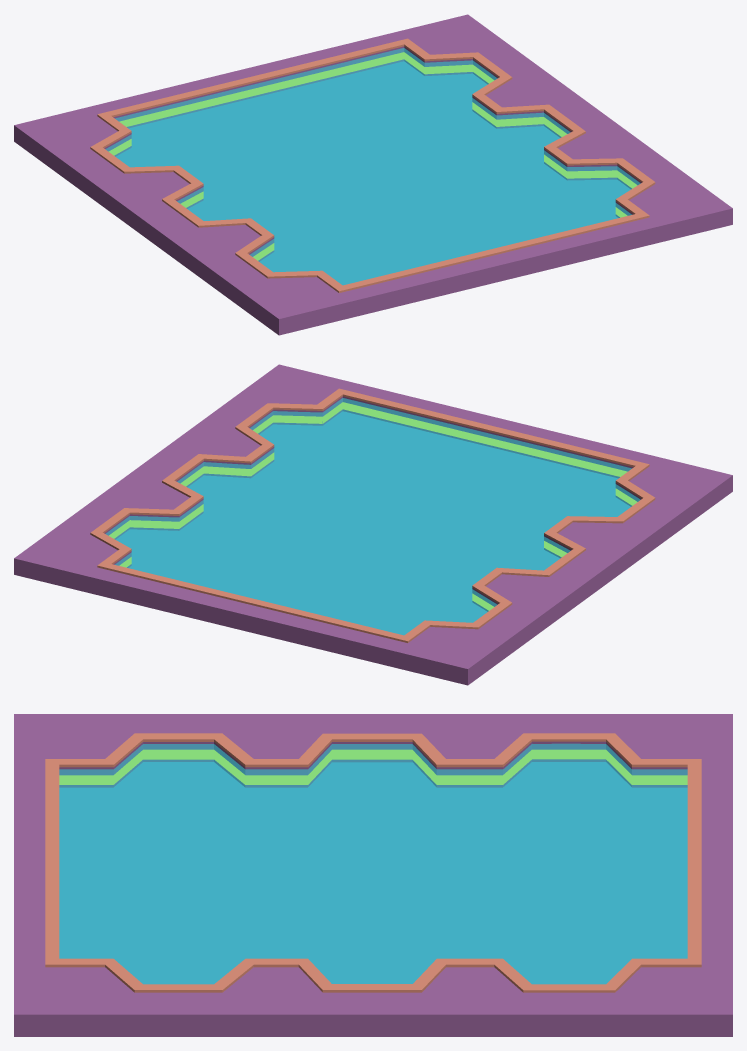
Rendered from floor_tier20.fbx.
The picture shows the model from 3 angles, top to bottom: view 1: azimuth 30°, elevation 25°; view 2: azimuth 150°, elevation 25°; view 3: azimuth 270°, elevation 25°; orthographic projection. The views are drawn at different scales.
Visible parts, largest first — view 1: Cube.002, Cube; view 2: Cube.002, Cube; view 3: Cube.002, Cube.
Part boxes in pixels (x1,y1,x2,y2): Cube.002: [14, 14, 732, 335]; Cube: [105, 48, 640, 285]; Cube.002: [14, 364, 732, 685]; Cube: [106, 398, 640, 635]; Cube.002: [14, 714, 732, 1036]; Cube: [59, 743, 687, 984].
Bounding box in the file's own units: 654 × 25.15 × 662.
